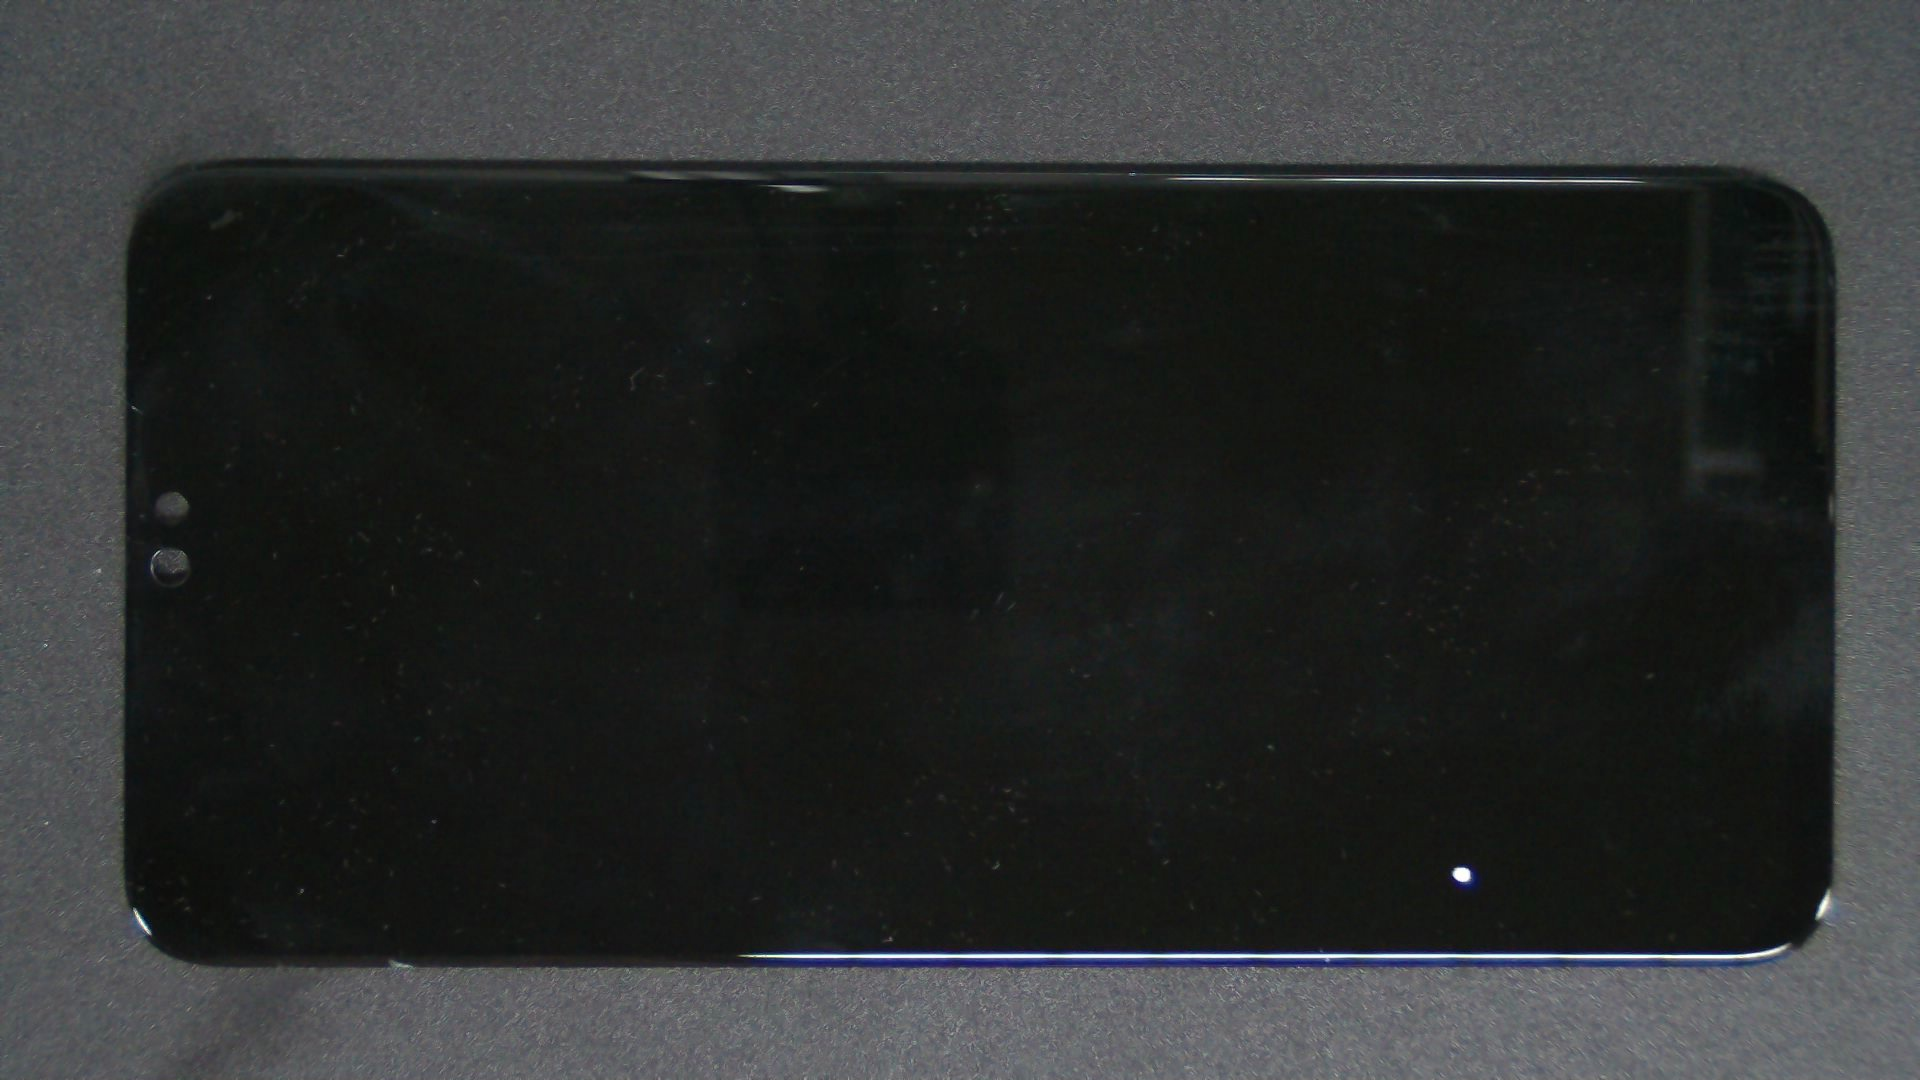oil: (729, 433, 1920, 1080)
